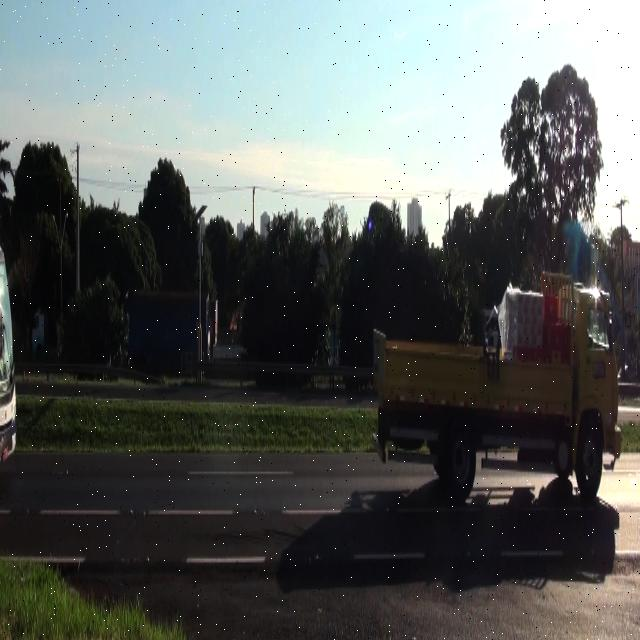-axle: (445, 416, 476, 489), (578, 423, 604, 501)
